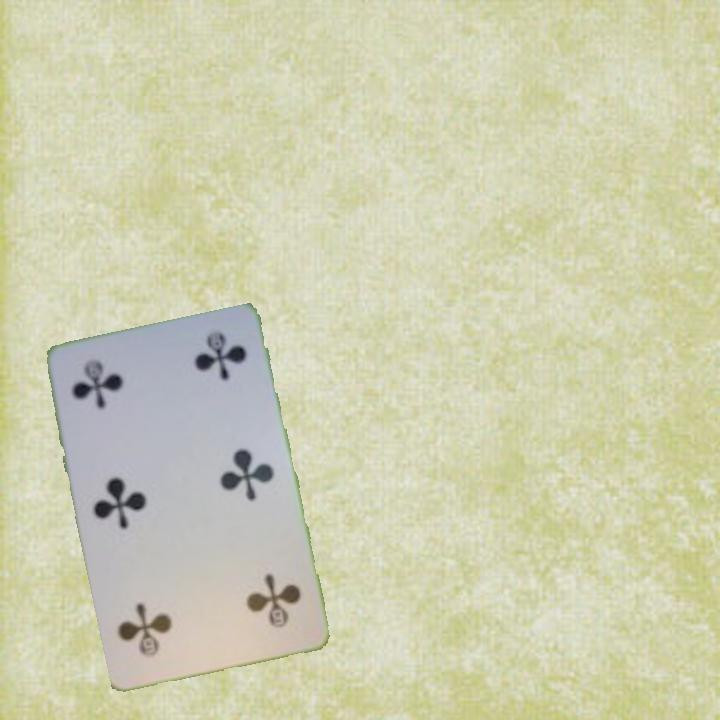c_6.png: (199, 550, 314, 654), (58, 339, 172, 443)
